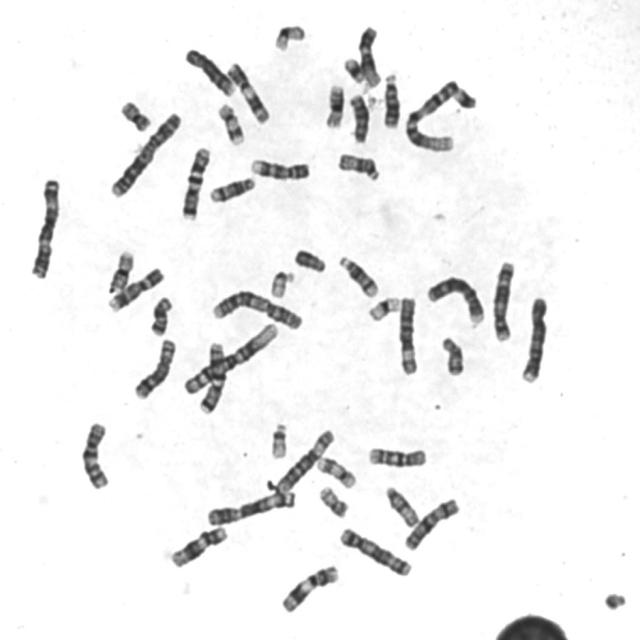A1: (178, 318, 280, 397), (401, 78, 460, 154)
A2: (106, 106, 184, 200), (206, 285, 304, 331)
A3: (202, 486, 298, 528), (26, 172, 62, 280)
B4: (422, 270, 486, 324), (516, 291, 551, 385)
B5: (335, 523, 414, 579), (488, 256, 517, 343)
C10: (77, 417, 111, 492), (364, 442, 428, 469)
C11: (277, 561, 341, 615), (222, 58, 271, 126)
C12: (166, 521, 229, 569), (354, 20, 384, 90)
C6: (271, 424, 336, 495), (394, 291, 420, 377)
C7: (177, 142, 213, 221), (195, 336, 228, 416)
C8: (130, 334, 177, 402), (180, 43, 237, 98)
C9: (104, 263, 166, 313), (247, 154, 311, 182)
D13: (379, 68, 402, 130), (345, 89, 370, 145)
D14: (334, 251, 380, 299), (204, 172, 257, 204)
D15: (381, 481, 421, 529), (333, 148, 382, 183)
E16: (105, 245, 136, 294), (320, 79, 346, 130)
E17: (312, 452, 358, 490), (213, 98, 246, 146)
E18: (436, 332, 466, 378), (146, 291, 174, 337)
F19: (270, 19, 307, 53), (363, 292, 402, 322)
F20: (116, 96, 153, 132), (315, 482, 350, 520)
G21: (338, 52, 366, 84), (451, 86, 477, 110)
G22: (266, 418, 290, 461), (266, 266, 296, 299)
X: (400, 493, 462, 552)
Y: (290, 244, 328, 274)
